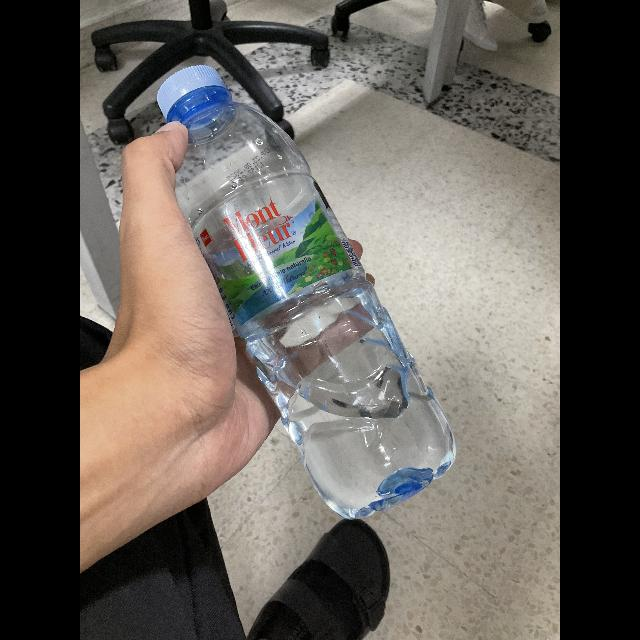plastic_bottle: (134, 64, 482, 524)
plastic_bottle_cap: (154, 65, 226, 127)
